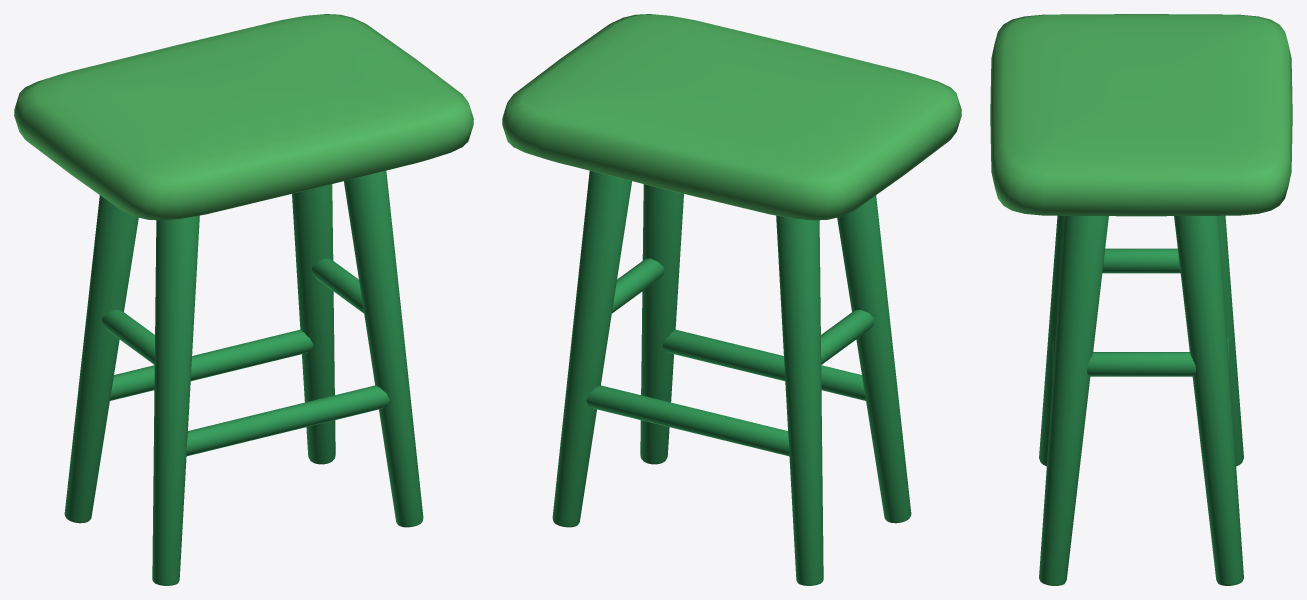
Rendered from criado_banqueta_verde.glb.
3 renders of one model, left to right at view 1: azimuth 30°, elevation 25°; view 2: azimuth 150°, elevation 25°; view 3: azimuth 270°, elevation 25°, orthographic.
Parts seen in each view (by area): view 1: criado_banqueta_verde; view 2: criado_banqueta_verde; view 3: criado_banqueta_verde.
Part boxes in pixels (x1,y1,x2,y2): criado_banqueta_verde: (14, 14, 473, 585); criado_banqueta_verde: (502, 14, 961, 585); criado_banqueta_verde: (990, 14, 1292, 585).
Size of the model in its own units: 0.46 by 0.5414 by 0.34.
Materials: 1 (1 with a texture image).
